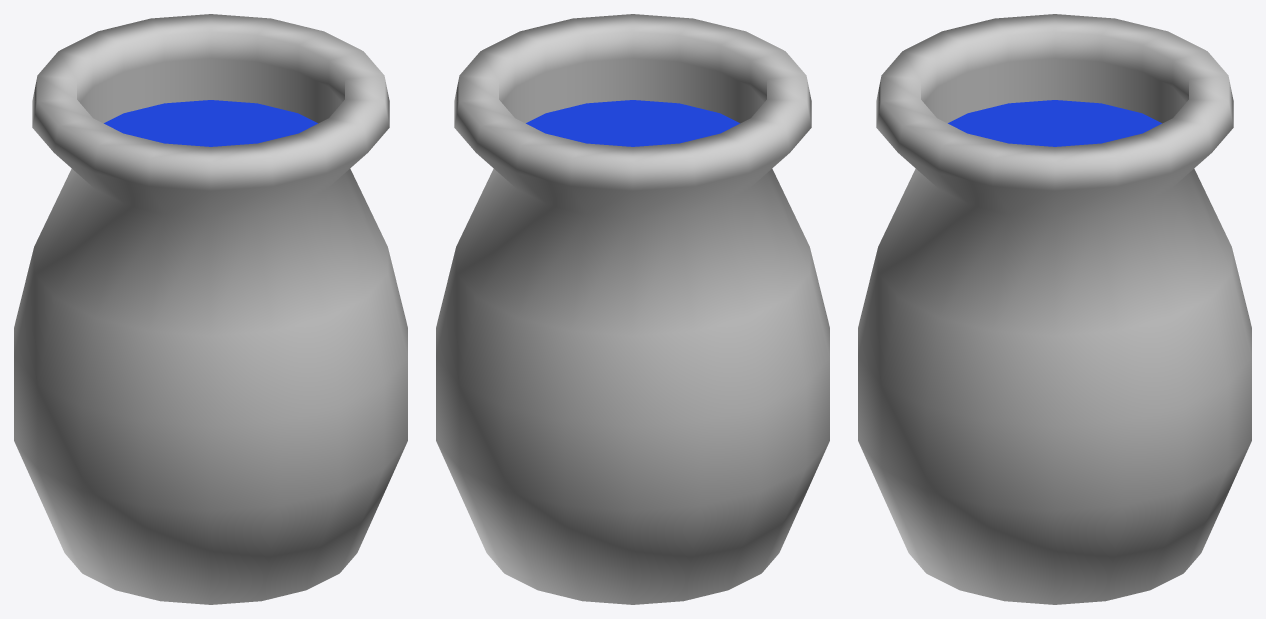
Rendered from 물통닫은거2.fbx.
3 views of the same model, side by side, from view 1: azimuth 30°, elevation 25°; view 2: azimuth 150°, elevation 25°; view 3: azimuth 270°, elevation 25° (orthographic).
Visible parts, largest first — view 1: 물통2_low; view 2: 물통2_low; view 3: 물통2_low.
Part boxes in pixels (x1,y1,x2,y2): 물통2_low: [14, 14, 407, 604]; 물통2_low: [436, 14, 829, 604]; 물통2_low: [858, 14, 1251, 604].
Size of the model in its own units: 53.19 by 66.59 by 52.38.
